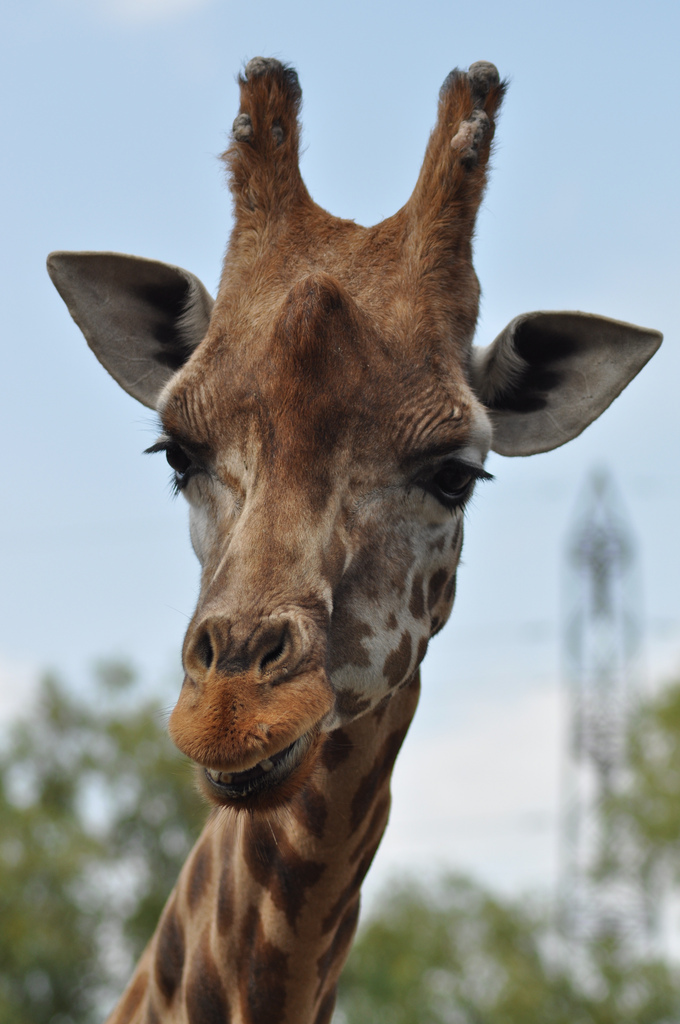giraffe: (103, 36, 632, 975)
